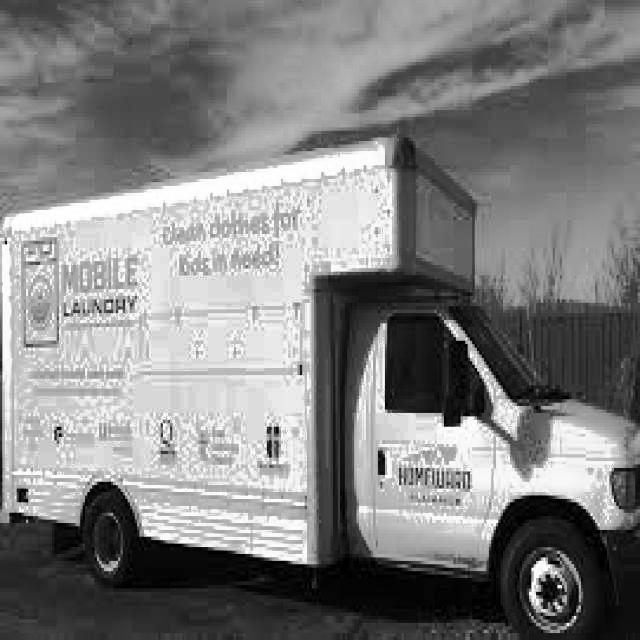Truck: (0, 131, 638, 637)
